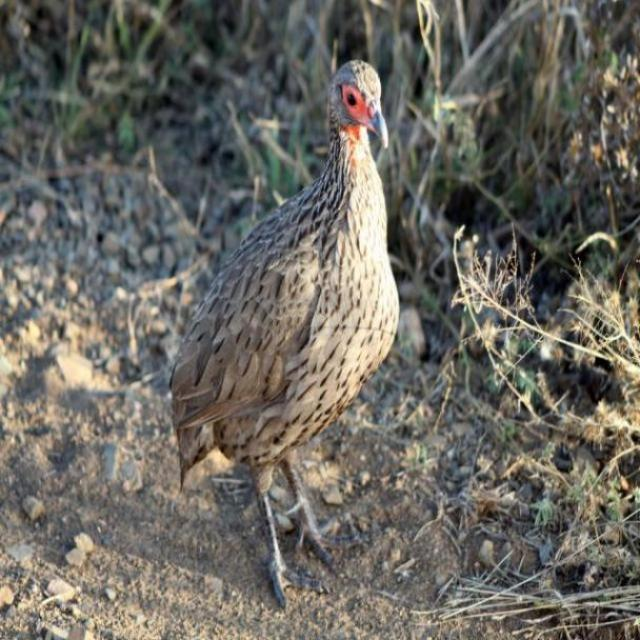Chicken: (185, 69, 401, 485)
